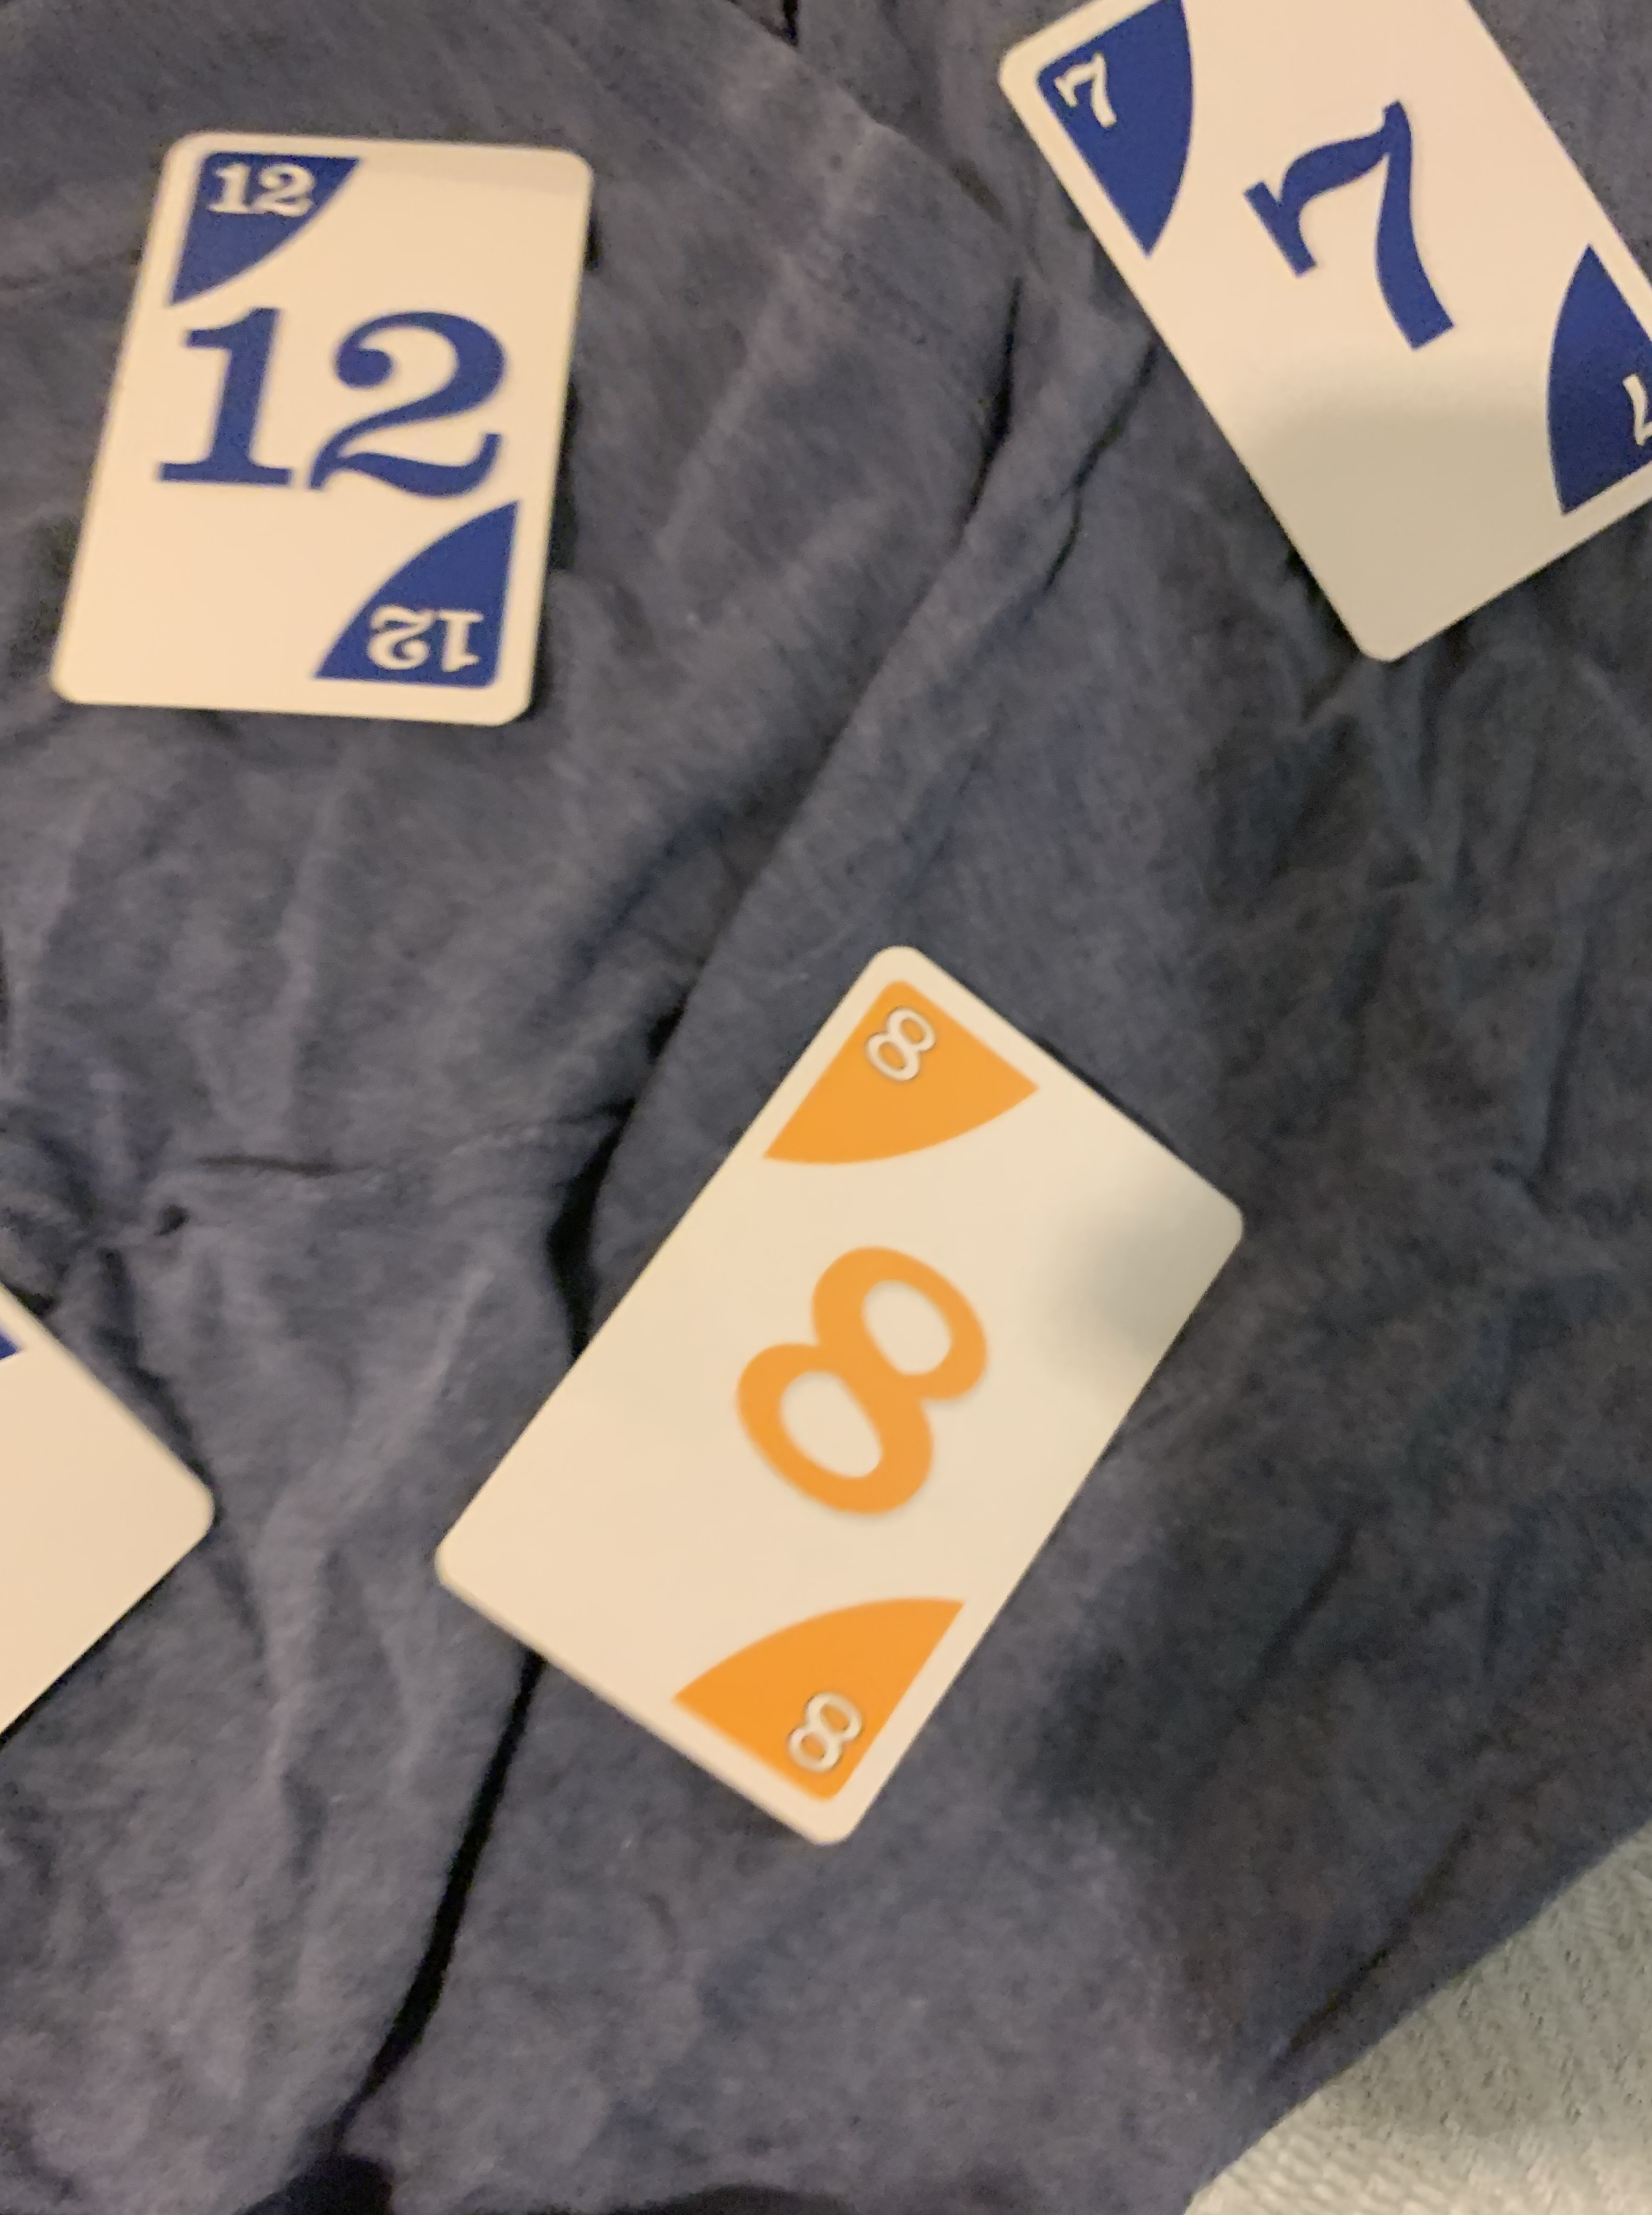eight: (422, 943, 1246, 1856)
seven: (1032, 0, 1643, 665)
twelve: (54, 127, 595, 733)
